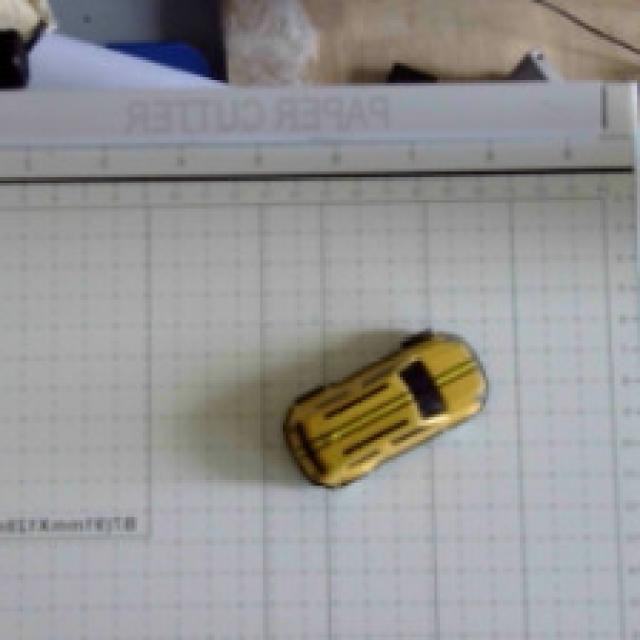Yellow Car: (230, 291, 548, 532)
